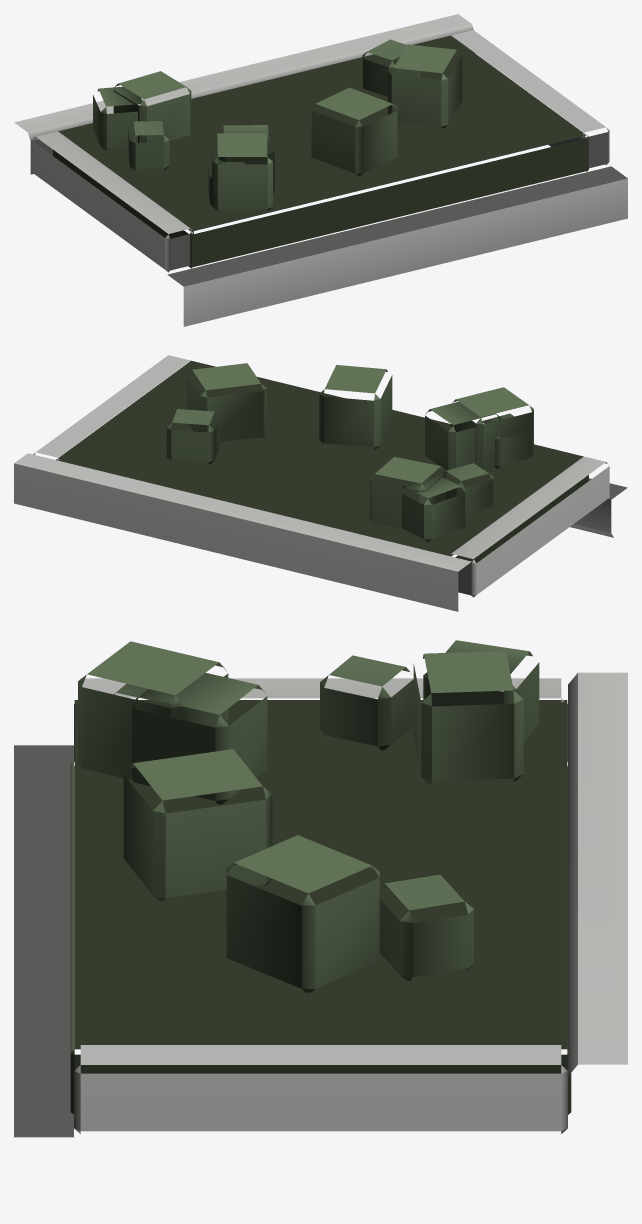
The model's file is flower_bed.glb.
3 renders of one model, top to bottom at view 1: azimuth 30°, elevation 25°; view 2: azimuth 150°, elevation 25°; view 3: azimuth 270°, elevation 25°, orthographic. The views are drawn at different scales.
Visible parts, largest first — view 1: props_flower_bed; view 2: props_flower_bed; view 3: props_flower_bed.
Part boxes in pixels (x1,y1,x2,y2): props_flower_bed: (14,14,627,326); props_flower_bed: (14,355,627,611); props_flower_bed: (14,640,627,1137).
Bounding box in the file's own units: 2.78 × 0.7881 × 1.84.
